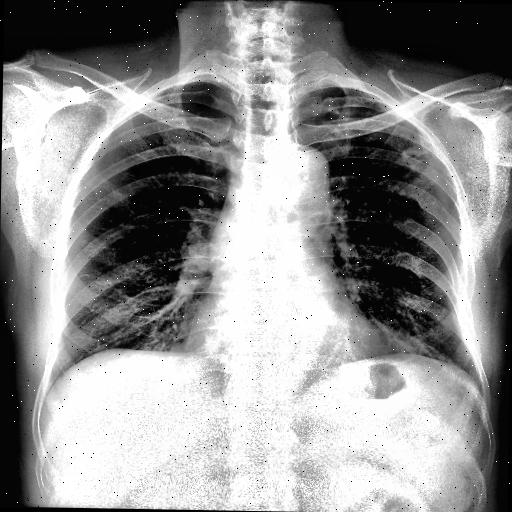0- Aortic enlargement: (268, 142, 332, 220), (265, 142, 332, 210), (270, 144, 332, 201)
13- Pulmonary fibrosis: (363, 150, 438, 190), (396, 136, 432, 166), (396, 146, 436, 167)
2- Calcification: (323, 172, 327, 183)
7- Lung Opacity: (330, 107, 432, 155), (328, 106, 338, 114)
